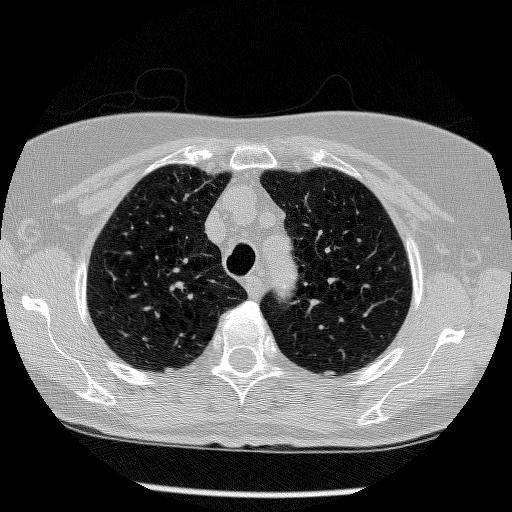nodule: (322, 367, 335, 380)
